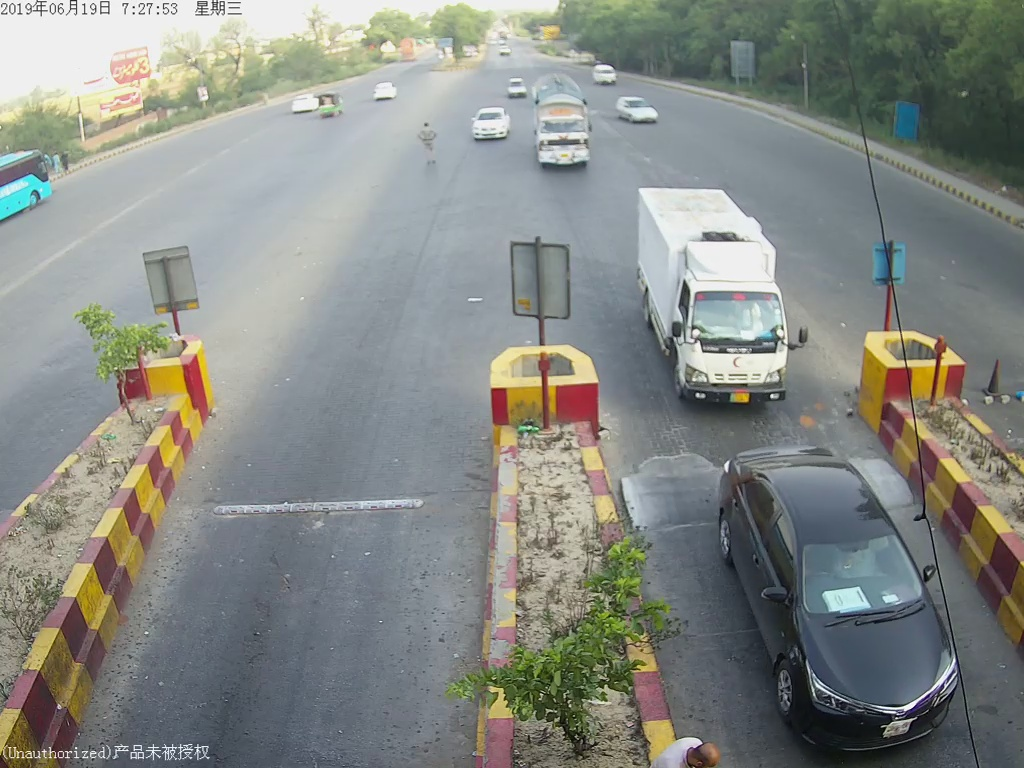Cat-1: (718, 436, 981, 741)
Cat-4: (636, 188, 817, 414), (529, 78, 596, 167)
